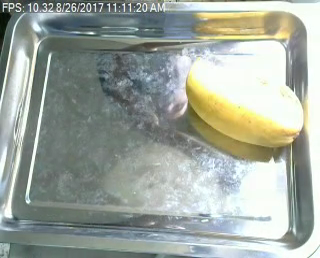Mango: (184, 52, 309, 150)
